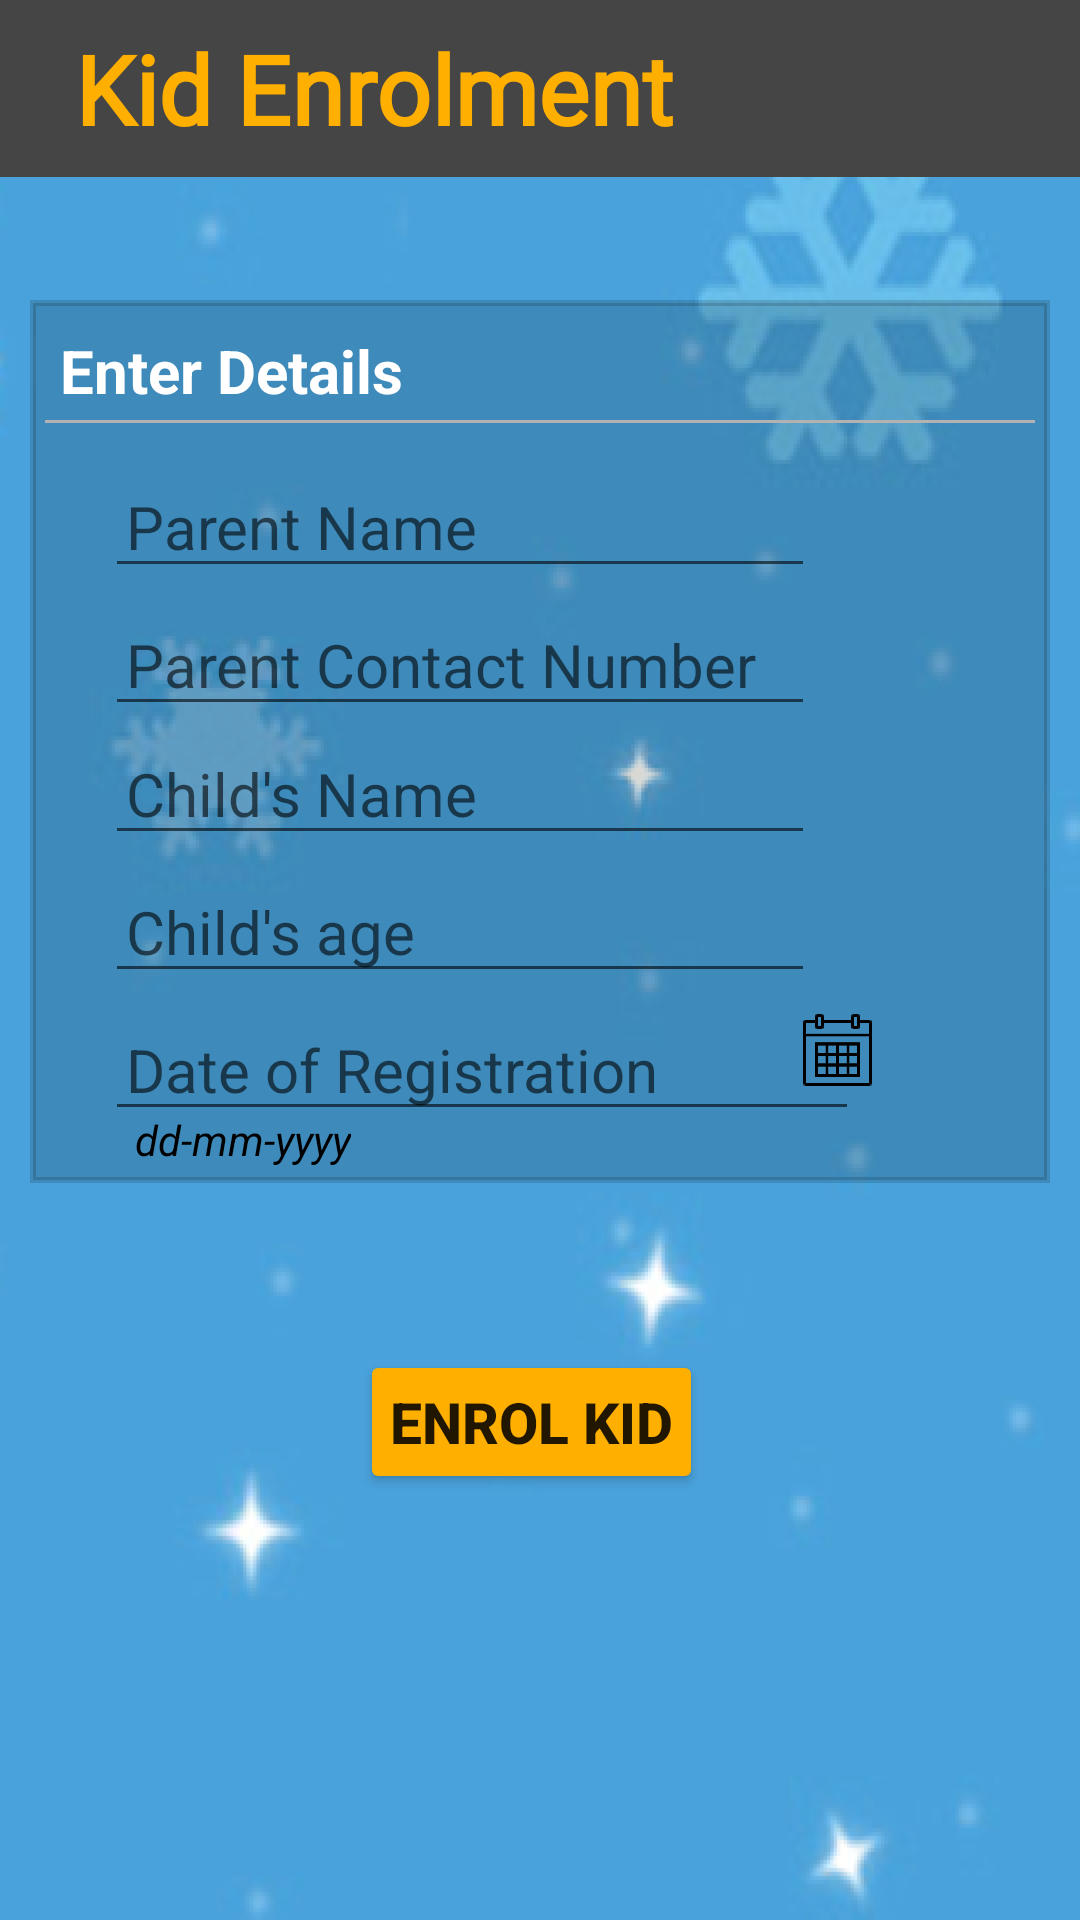

Screen size 1080px x 1920px. Icon name, then its box in pixels as (x1, y1, x2, y2):
calendar: (803, 1014, 872, 1086)
